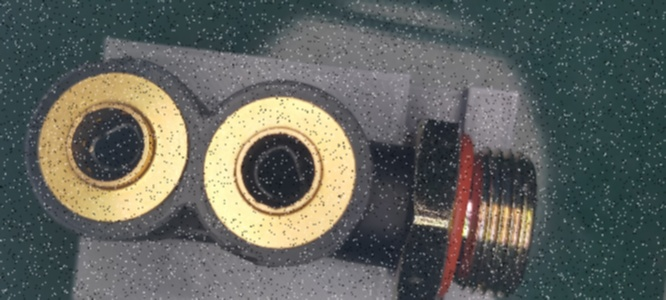bump: (223, 241, 264, 266), (84, 57, 142, 71)
off-centered: (239, 142, 315, 203), (79, 118, 147, 175)
white mark: (385, 182, 403, 200)
